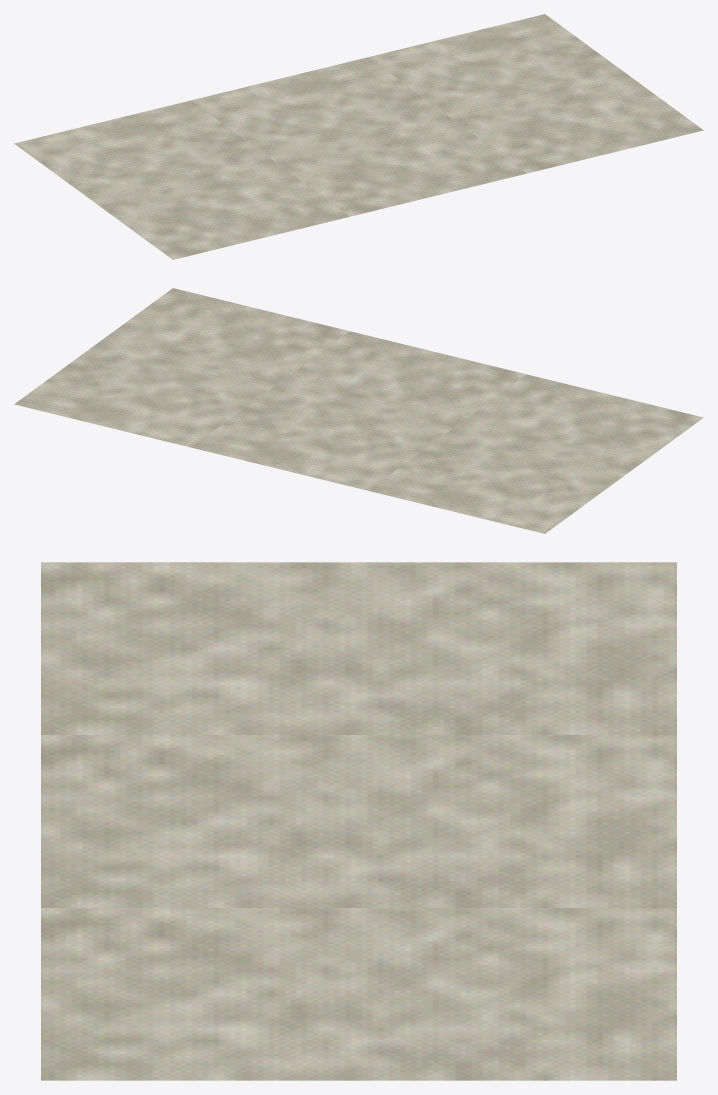
Rendered from ParkingDecal.fbx.
3 views of the same model, one above another, from view 1: azimuth 30°, elevation 25°; view 2: azimuth 150°, elevation 25°; view 3: azimuth 270°, elevation 25° (orthographic). The views are drawn at different scales.
Parts seen in each view (by area): view 1: ParkingDecal; view 2: ParkingDecal; view 3: ParkingDecal.
Part boxes in pixels (x1,y1,x2,y2): ParkingDecal: (14,14,703,259); ParkingDecal: (14,288,703,533); ParkingDecal: (41,562,676,1080).
Size of the model in its own units: 13.5 by 0 by 7.
